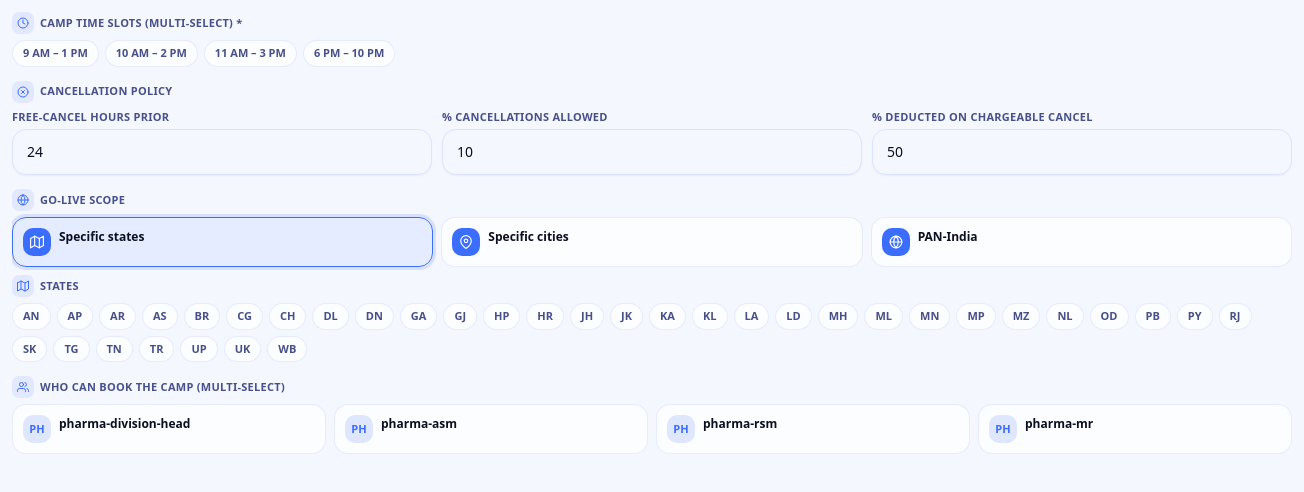
WizardStep4 — camp time slot presets › shows the "add at least one slot" error once the step is attempted and no slot is selected
The image size is (1304, 492).
Click the button "9 AM – 1 PM" at (55, 53), box [12,40,99,66]
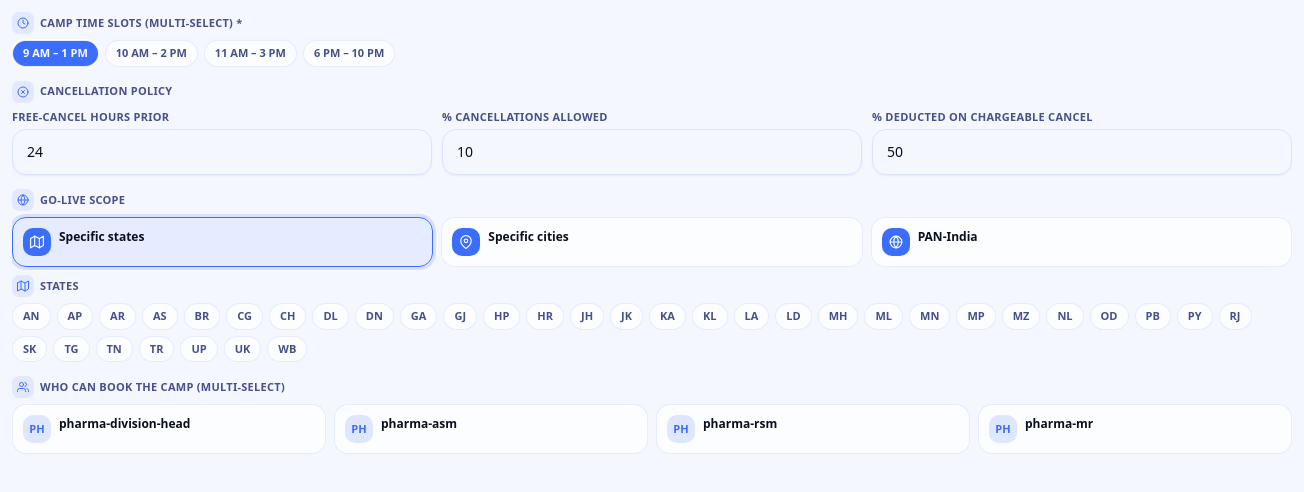
Click the button "9 AM – 1 PM" at (55, 53), box [12,40,99,66]
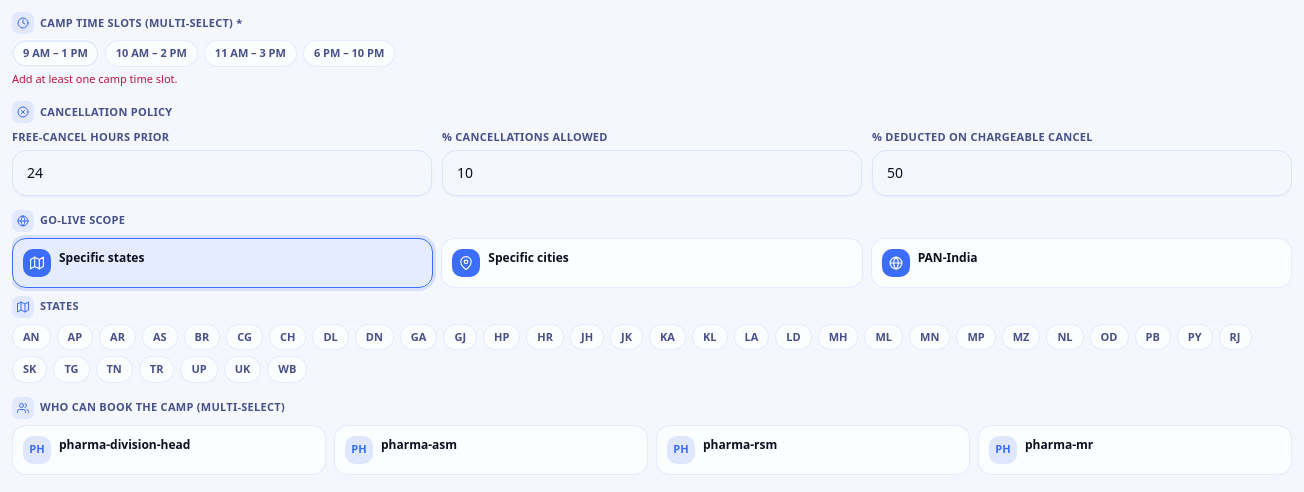
Expected: the text "Add at least one camp time slot." is shown, [12,70,178,86]
